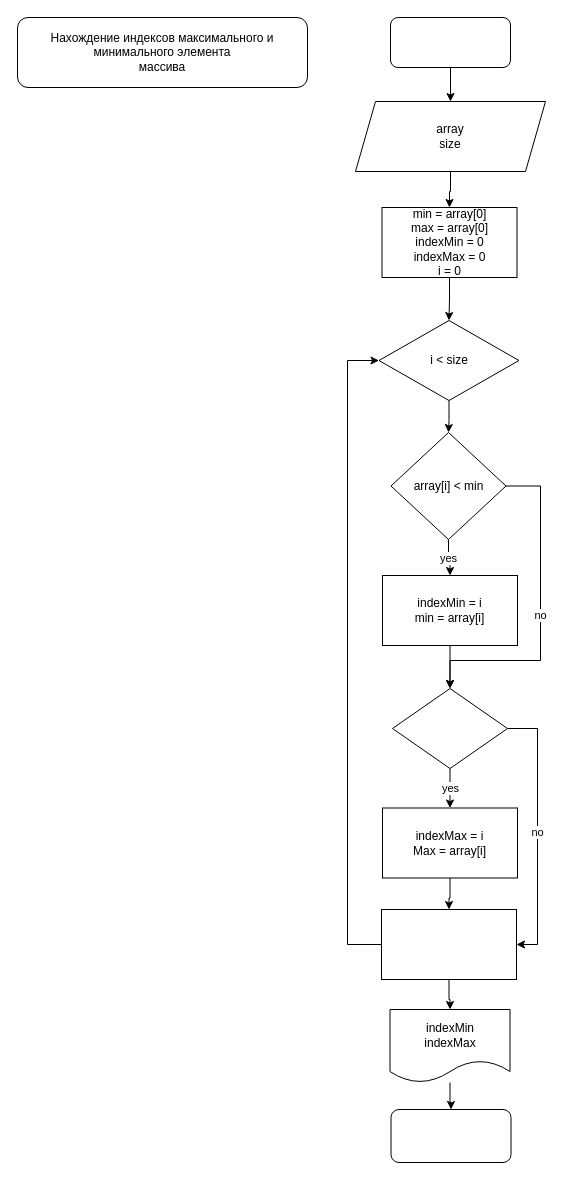
Some shapes in this 566 by 1180 pixel diagram are drawn without their labels. Here are the shapes that lost their labels. From the top down, the centre of each, then its label:
point 450,42: Начало
point 450,728: array[i] > max
point 448,944: i = i + 1
point 450,1135: Конец
